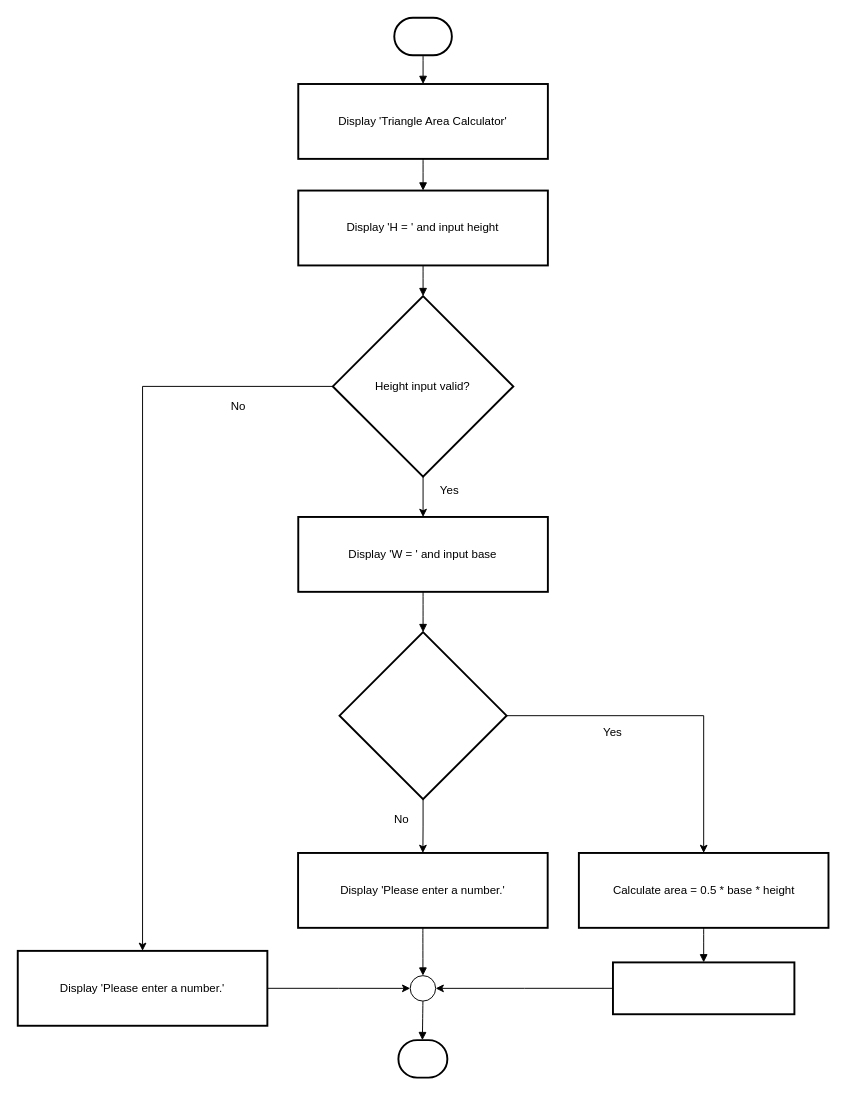
Some shapes in this 846 by 1094 pixel diagram are drawn without their labels. The centre of each missing label's shape, as x and y in pixels:
"Base input valid?" goes at point 422,715.
"Display 'Area = ...'" goes at point 703,988.
"End" goes at point 422,1058.
"Start" goes at point 422,36.
